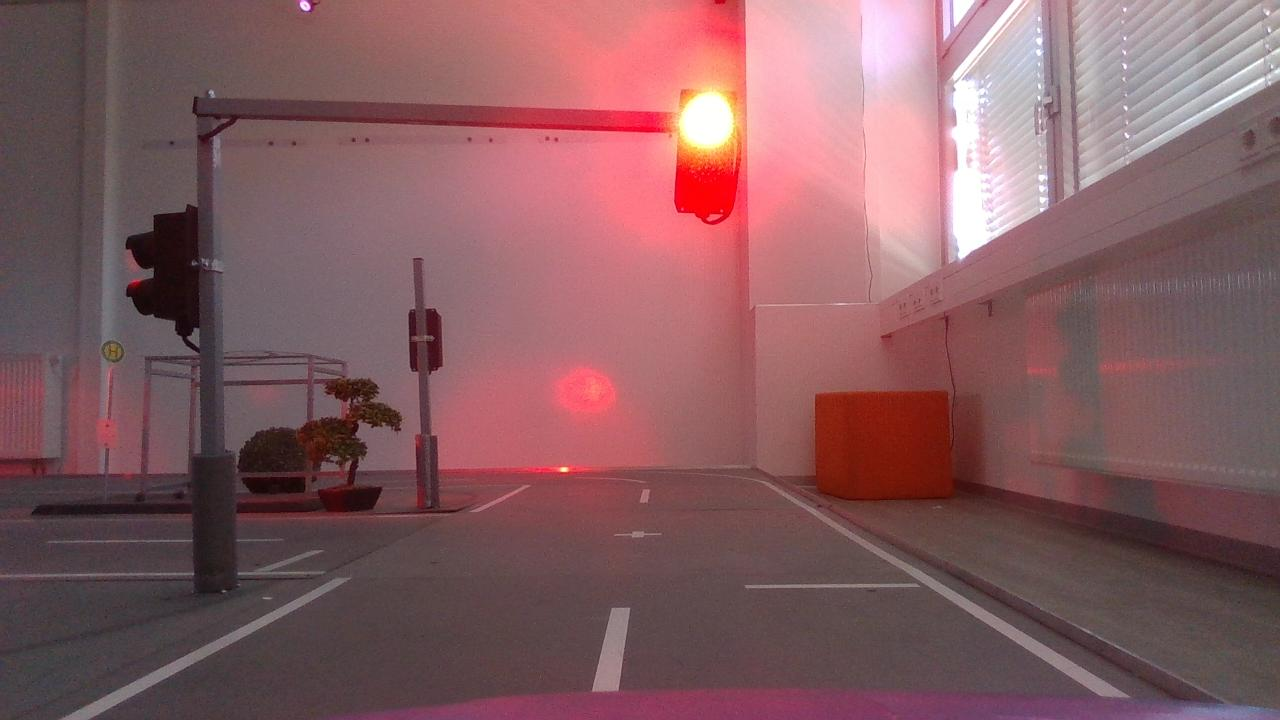traffic_light_red: (663, 71, 759, 242)
